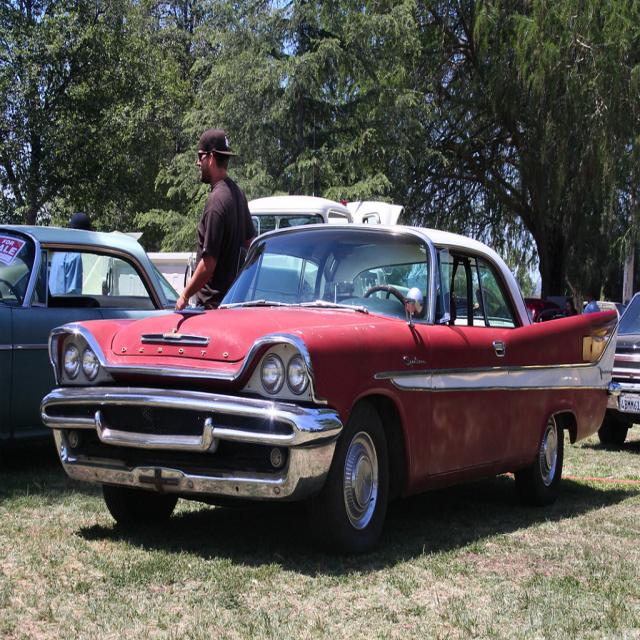car: (8, 209, 621, 557)
